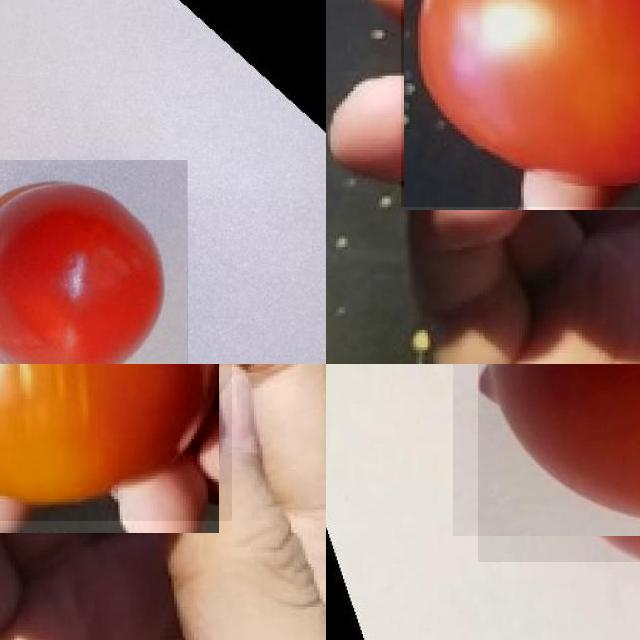Fresh Tomato: (400, 0, 640, 206), (0, 160, 187, 364), (478, 364, 640, 561)
Rotten Tomato: (0, 364, 231, 521)
